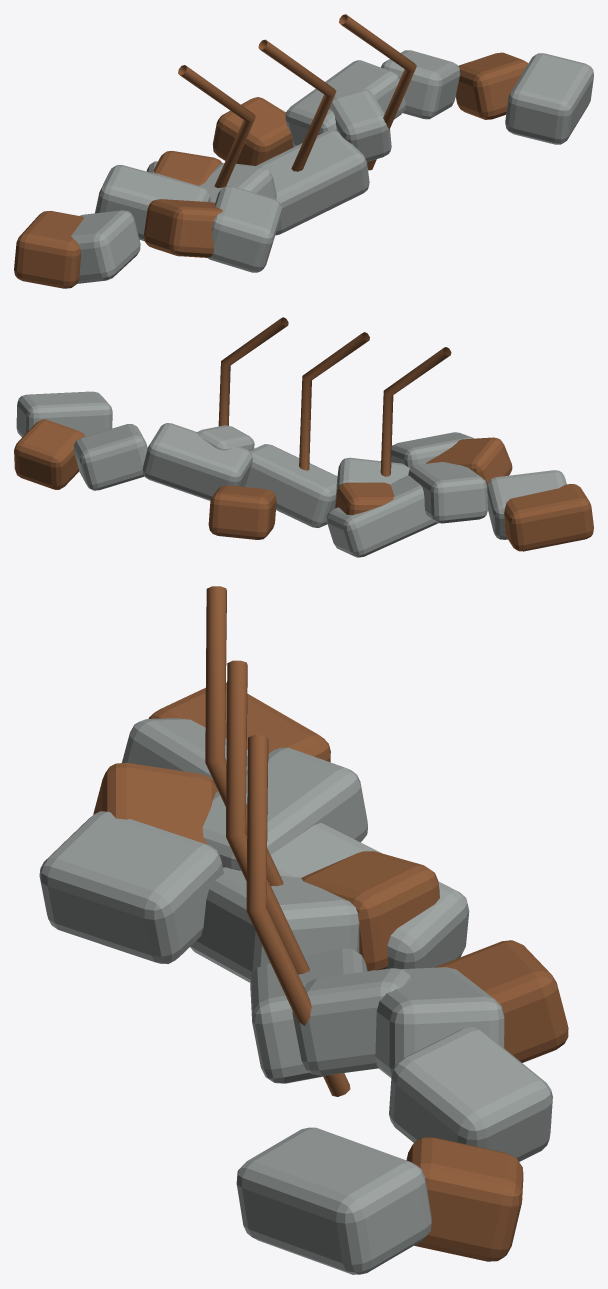
Rendered from SM_CityRubble.fbx.
3 views of the same model, one above another, from view 1: azimuth 30°, elevation 25°; view 2: azimuth 150°, elevation 25°; view 3: azimuth 270°, elevation 25° (orthographic). The views are drawn at different scales.
Parts seen in each view (by area): view 1: SM_CityRubble; view 2: SM_CityRubble; view 3: SM_CityRubble.
Boxes of the visible parts, left/top/right/bottom form: SM_CityRubble: left=14, top=14, right=593, bottom=288; SM_CityRubble: left=14, top=317, right=593, bottom=557; SM_CityRubble: left=39, top=586, right=568, bottom=1274.
Size of the model in its own units: 212 by 89.61 by 68.57.
